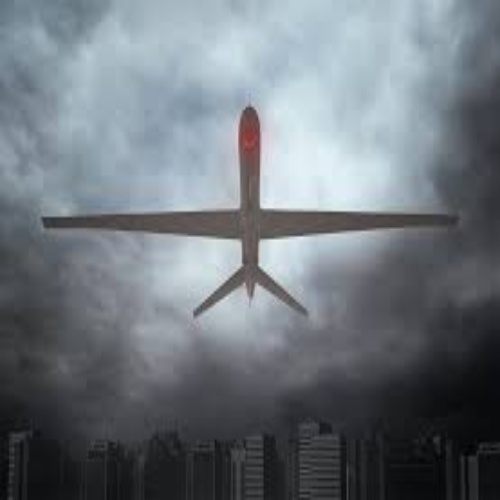uav: (41, 101, 465, 316)
